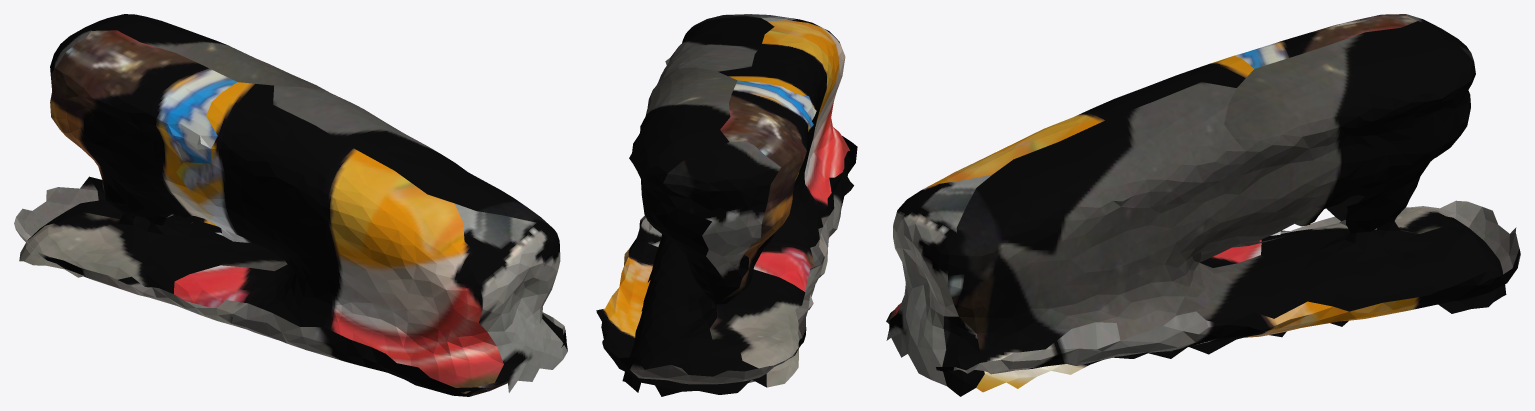
Rendered from dingshuji.obj.
3 renders of one model, left to right at view 1: azimuth 30°, elevation 25°; view 2: azimuth 150°, elevation 25°; view 3: azimuth 270°, elevation 25°, orthographic. The views are drawn at different scales.
Parts seen in each view (by area): view 1: material_0, material_0_1; view 2: material_0, material_0_1; view 3: material_0, material_0_1.
Boxes of the visible parts, x1,y1,x2,y2 form: material_0: (19,14,567,393); material_0_1: (14,176,566,396); material_0: (622,14,849,396); material_0_1: (596,136,857,384); material_0: (886,14,1506,396); material_0_1: (886,200,1520,374).
Bounding box in the file's own units: 0.0752 × 0.052 × 0.1195.
